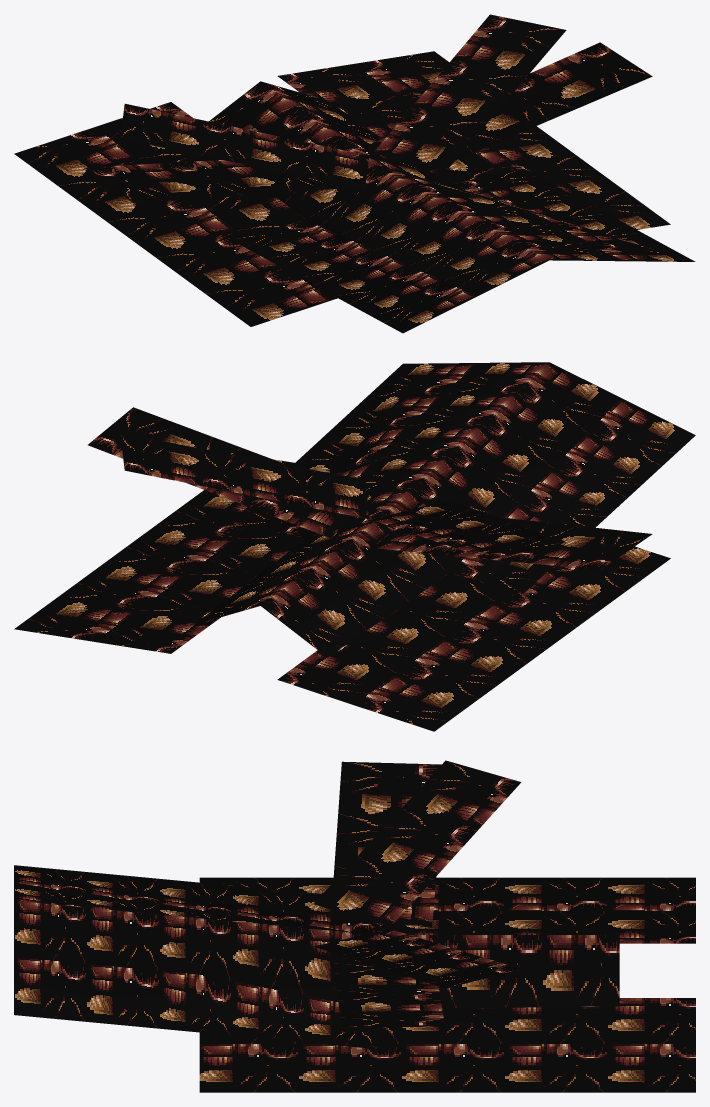
File: 5011musi21.gltf
3 views of the same model, one above another, from view 1: azimuth 30°, elevation 25°; view 2: azimuth 150°, elevation 25°; view 3: azimuth 270°, elevation 25° (orthographic). The views are drawn at different scales.
Visible parts, largest first — view 1: 5011musi21; view 2: 5011musi21; view 3: 5011musi21.
Part boxes in pixels (bbox=[...]): 5011musi21: bbox=[14, 14, 695, 333]; 5011musi21: bbox=[14, 362, 695, 731]; 5011musi21: bbox=[14, 760, 695, 1092].
Size of the model in its own units: 0.2632 by 0.051 by 0.2854.
4 materials, 4 textured.
